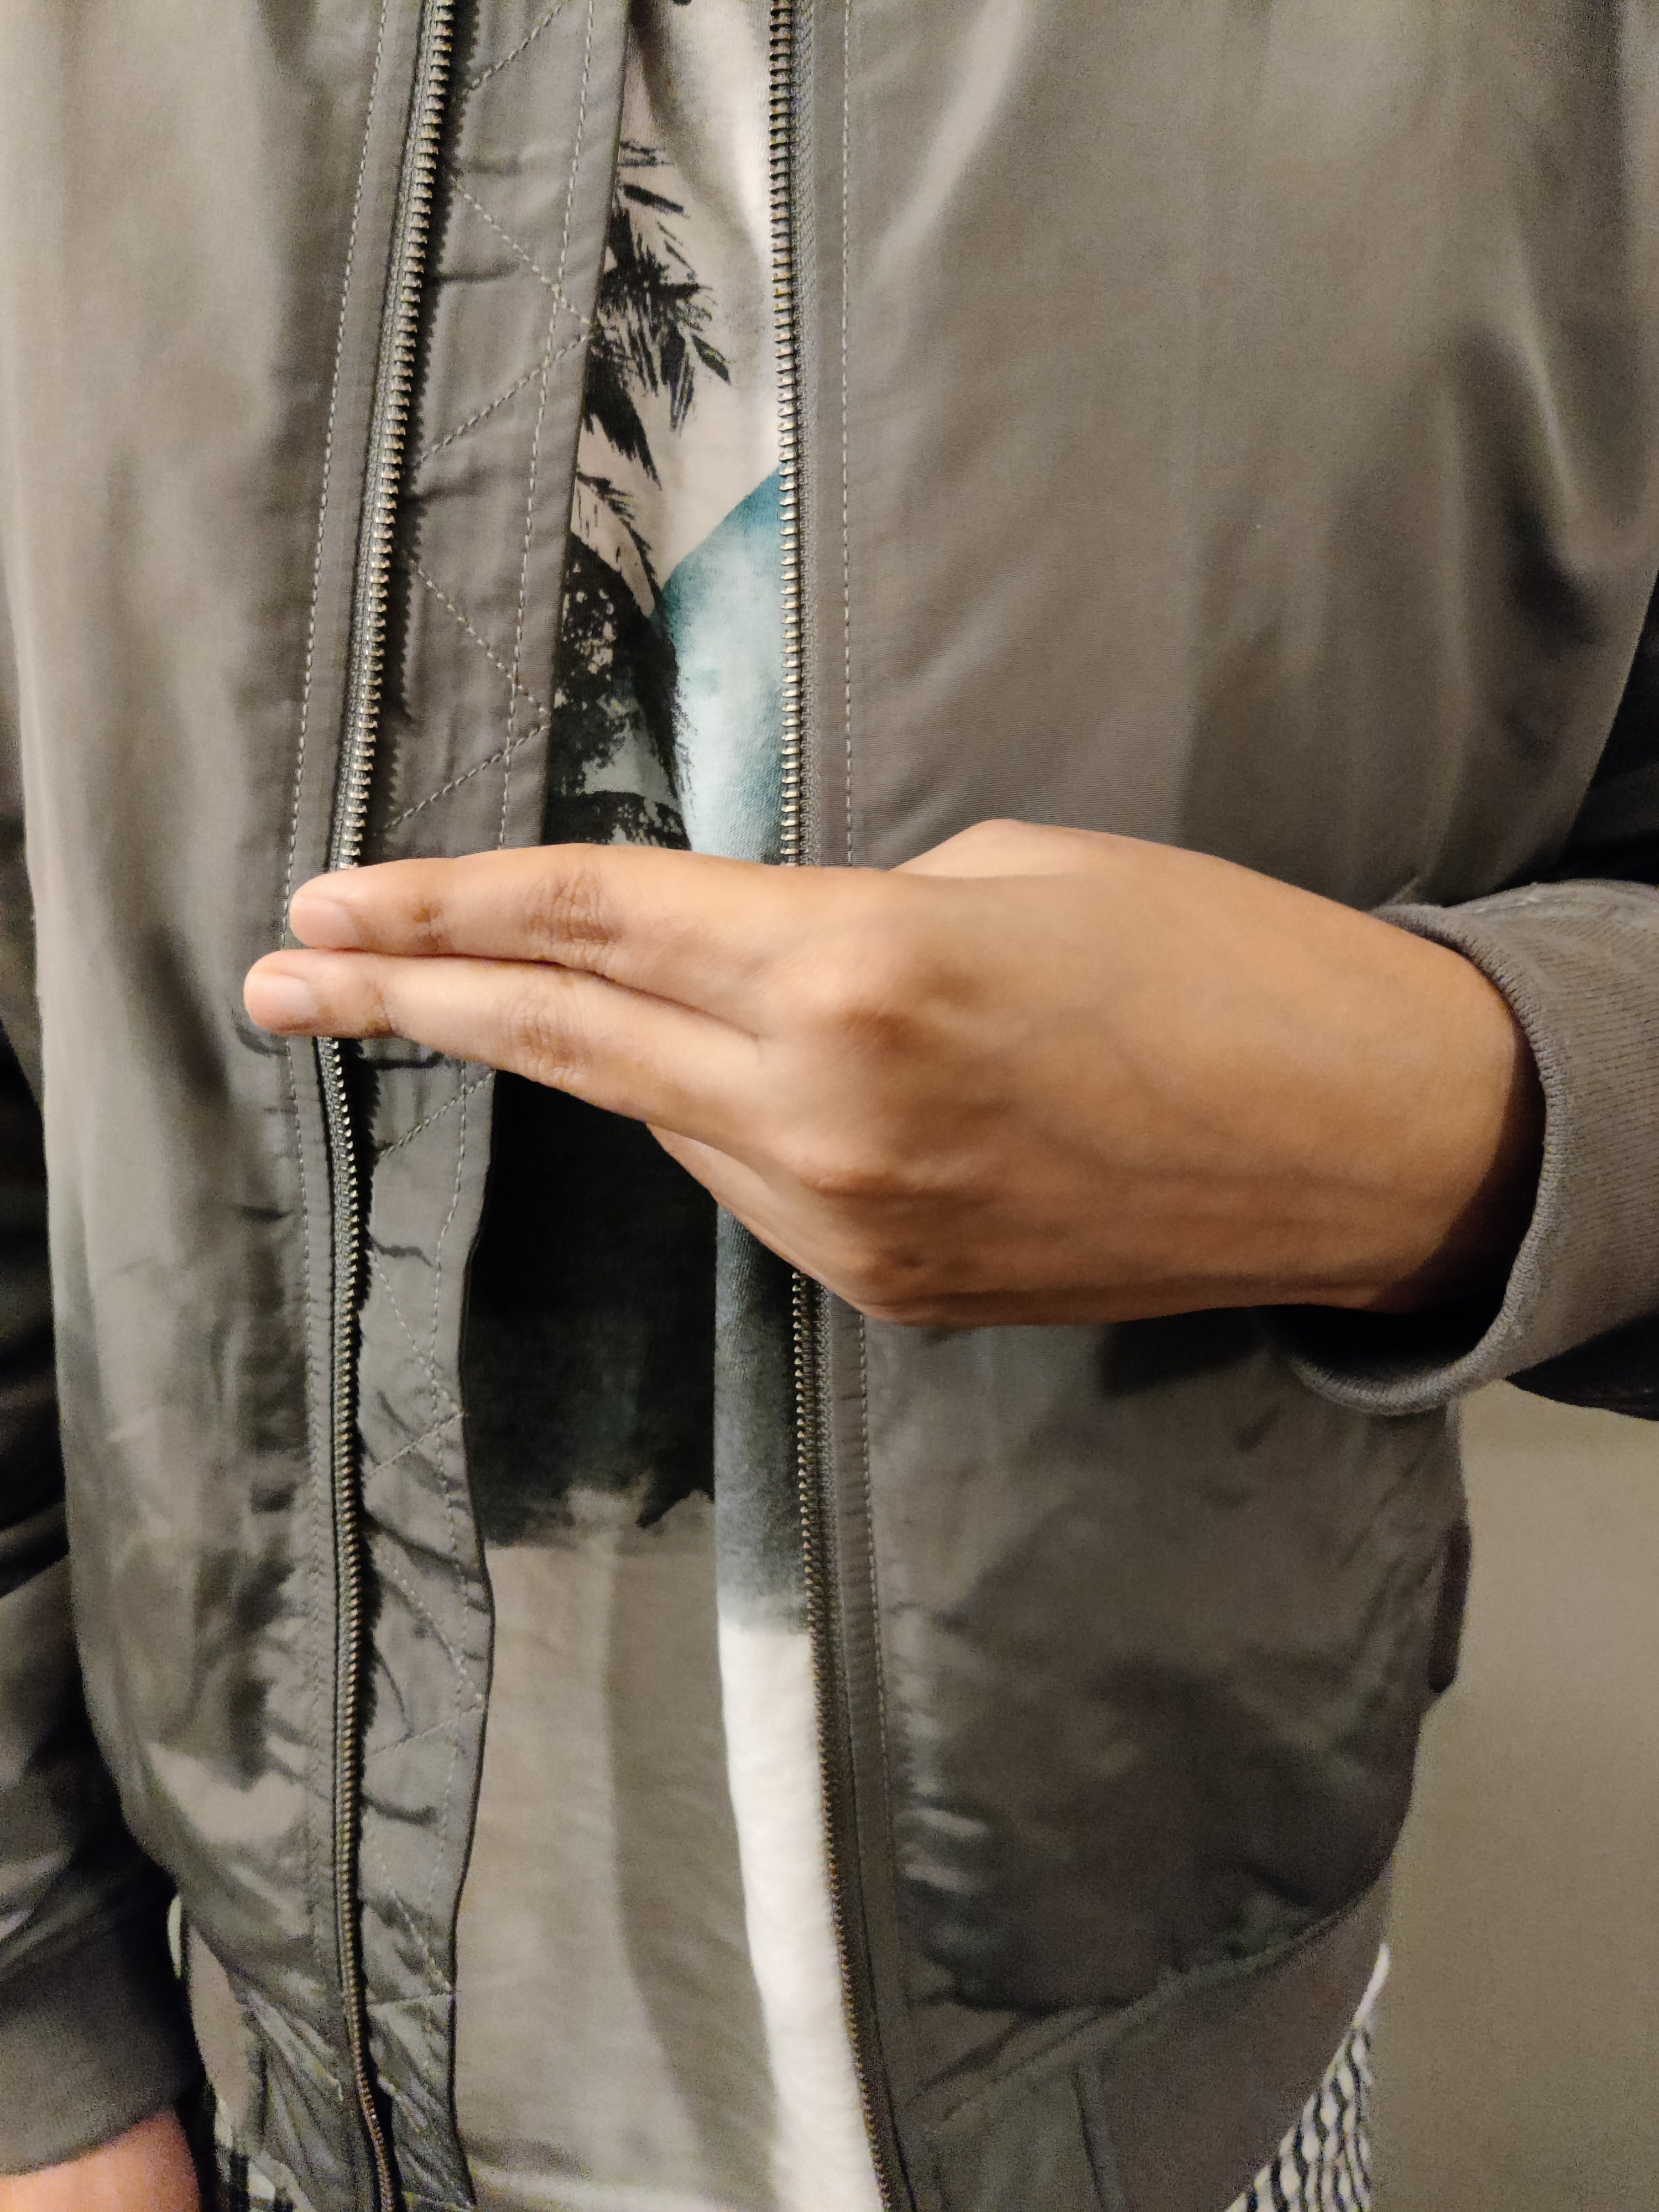right: (78, 533, 1589, 1550)
